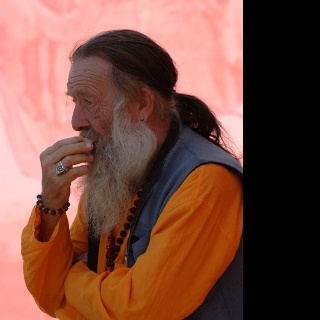without_mask: (66, 56, 137, 176)
